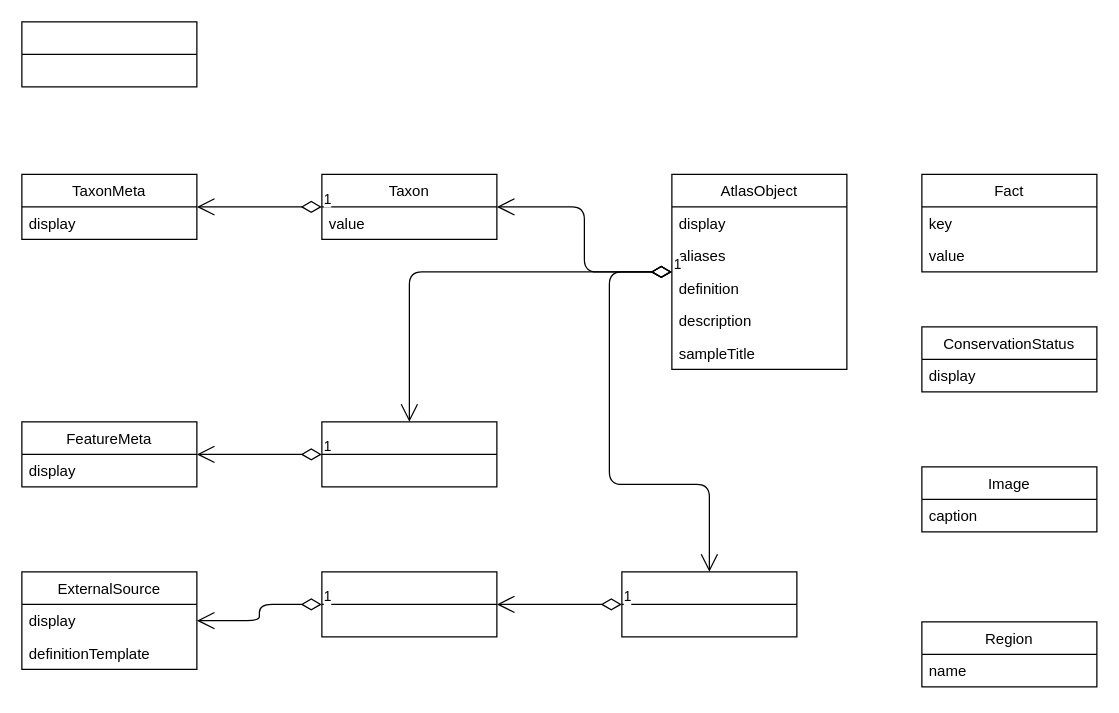
Some shapes in this 1119 by 713 pixel diagram are drawn without their labels. Each missing label, with the centre of its shape:
AtlasCollection: [109,54]
Feature: [409,454]
Link: [709,604]
LinkSource: [409,604]
